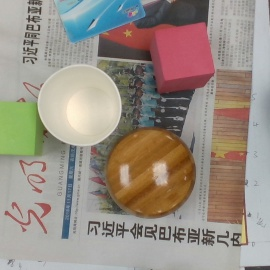card: (51, 1, 146, 44)
chess: (107, 128, 194, 219)
cup: (36, 64, 123, 149)
